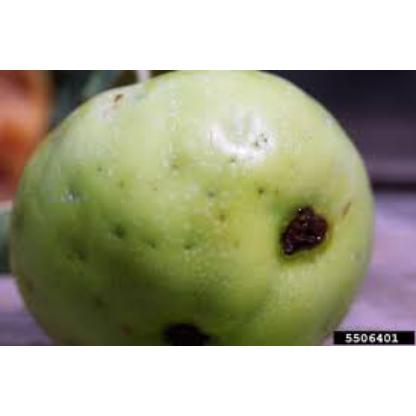damaged_apple: (12, 78, 374, 338)
